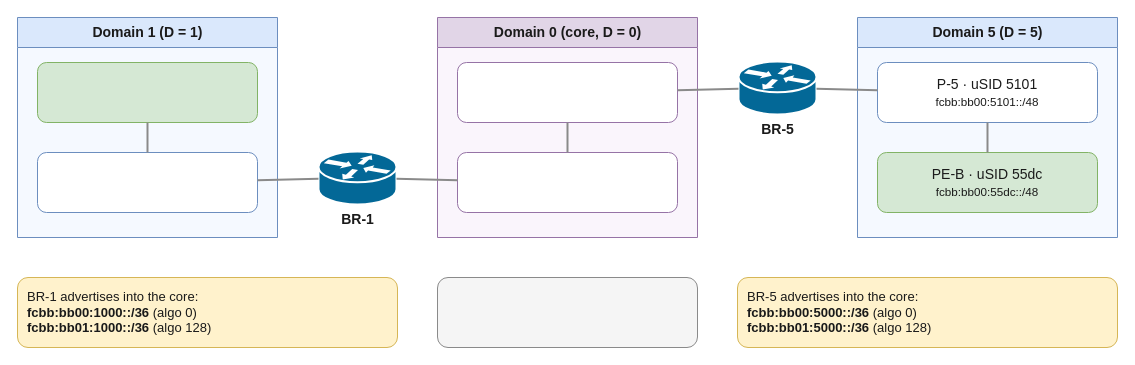
The diagram is 1135 pixels wide and 365 high, and some of its shapes have lost their labels. Each missing label, with the centre of its shape:
P-1 · uSID 1007 fcbb:bb00:1007::/48: the point at 147,182
P-C1 · uSID 0011 fcbb:bb00:11::/48: the point at 567,182
P-C2 · uSID 0012 fcbb:bb00:12::/48: the point at 567,92
PE-A · uSID 1042 fcbb:bb00:1042::/48: the point at 147,92
Up to 4,096 node locators per domain collapse into 1 route per algorithm: the point at 567,312
